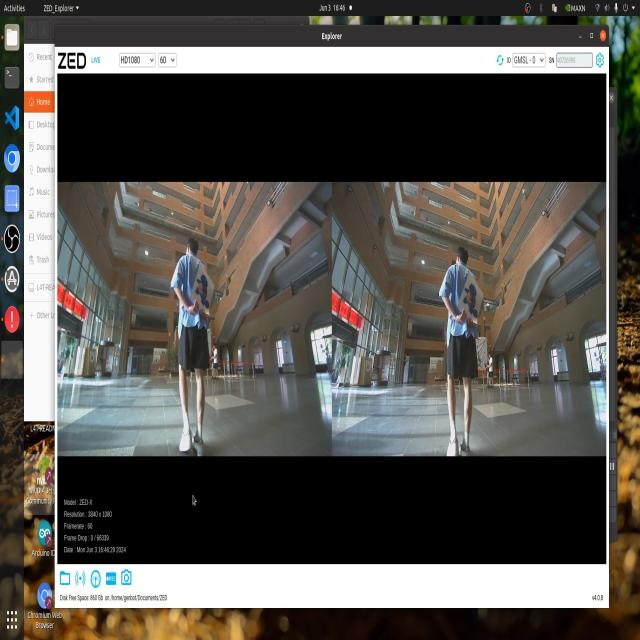blue: (464, 283, 480, 320), (197, 278, 208, 304)
